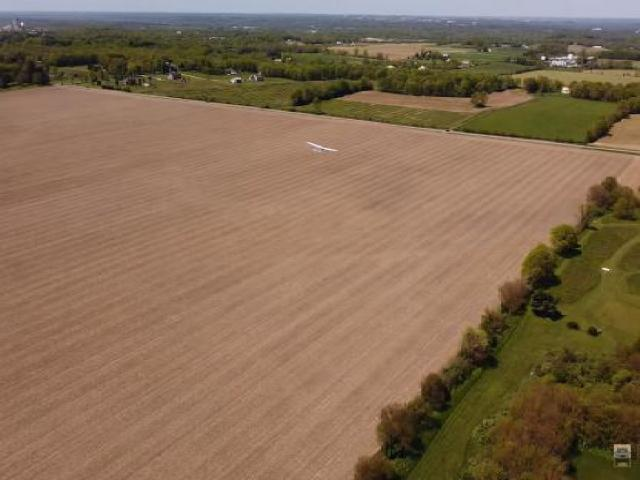uav: (299, 125, 339, 159)
